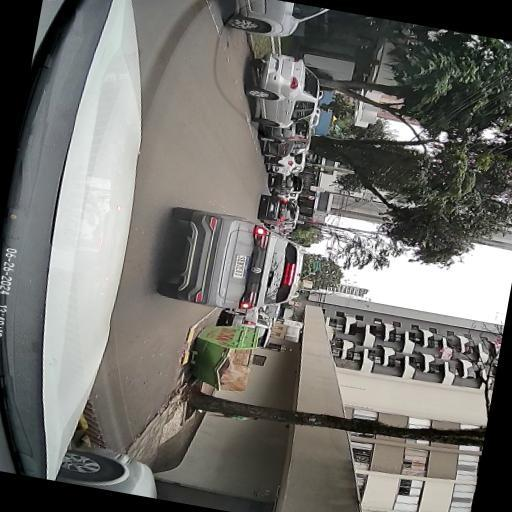R-24a: (306, 195, 314, 200)
R-6b: (292, 322, 300, 327), (316, 186, 322, 192), (294, 301, 300, 306)
